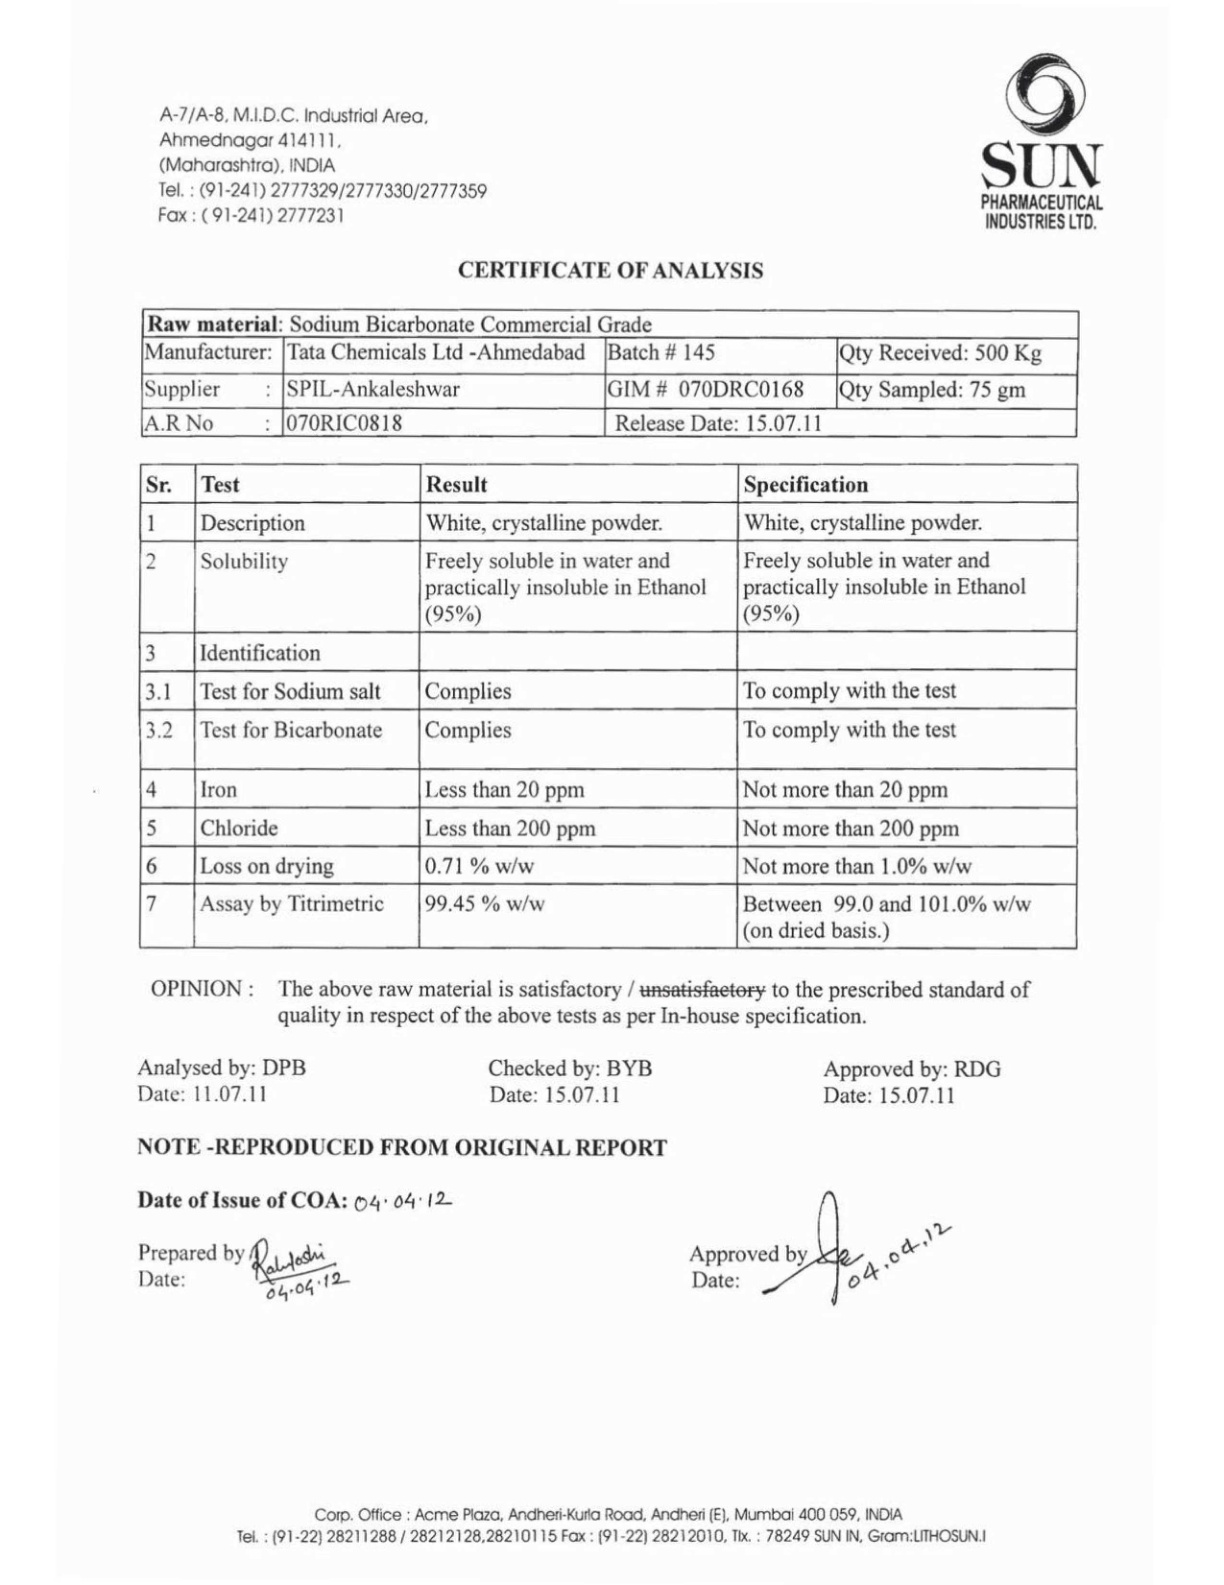full_lined: (138, 461, 1080, 951)
merged_cells: (140, 306, 1081, 440)
